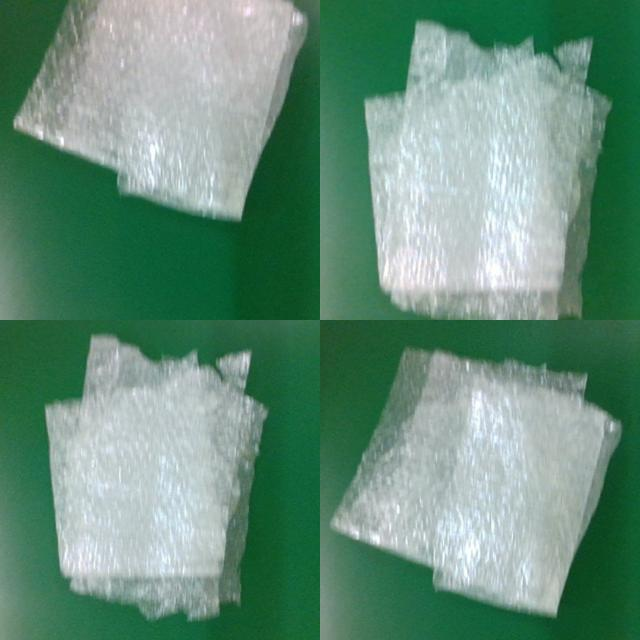Single-layer Plastic: (331, 349, 621, 616), (365, 21, 610, 319), (14, 0, 306, 220), (45, 335, 268, 620)
